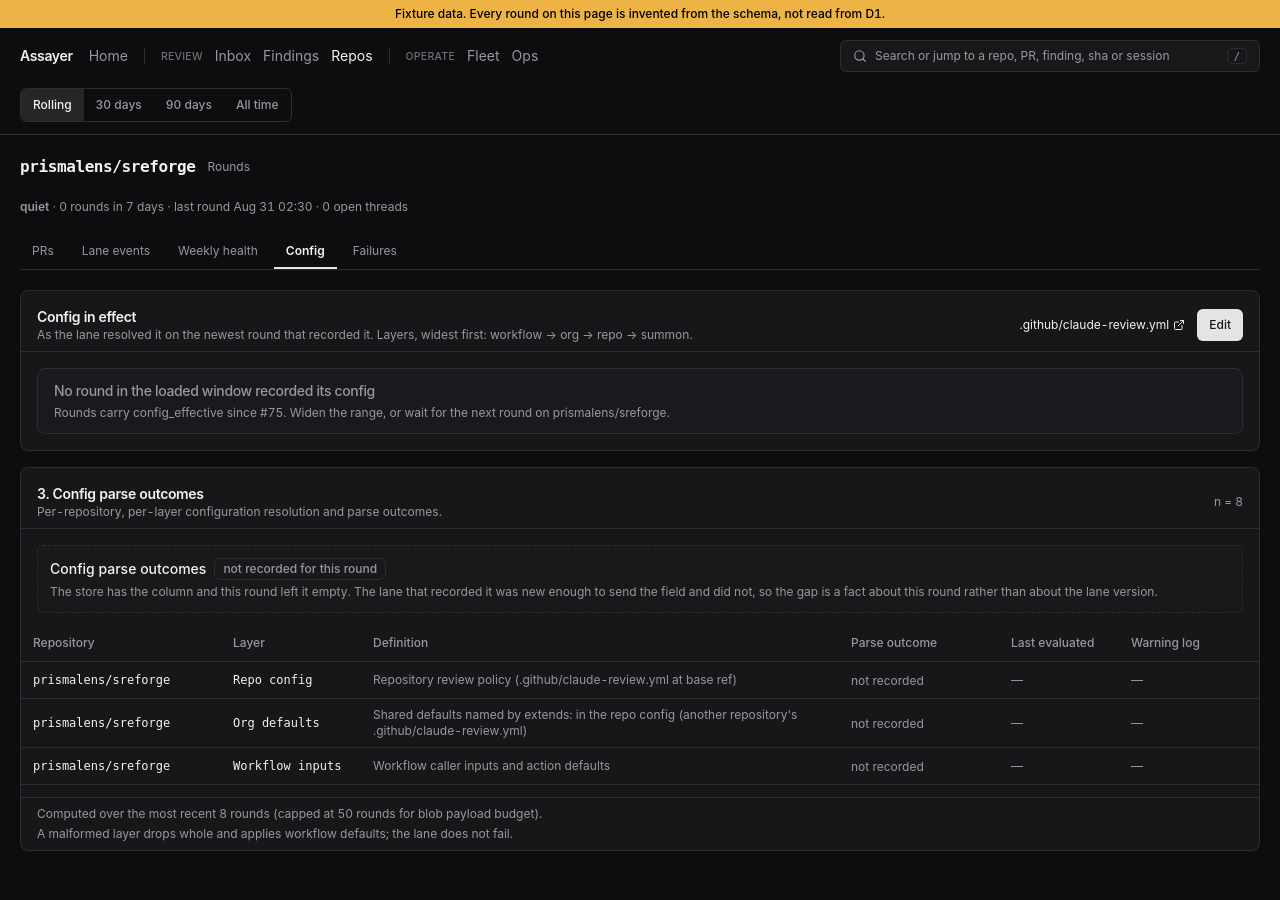
the Config tab edits the file through a pull request (#78) › a repository without the App says so instead of an editor
Click the button with test id "config-edit": (1220, 325) [1197,309,1243,341]
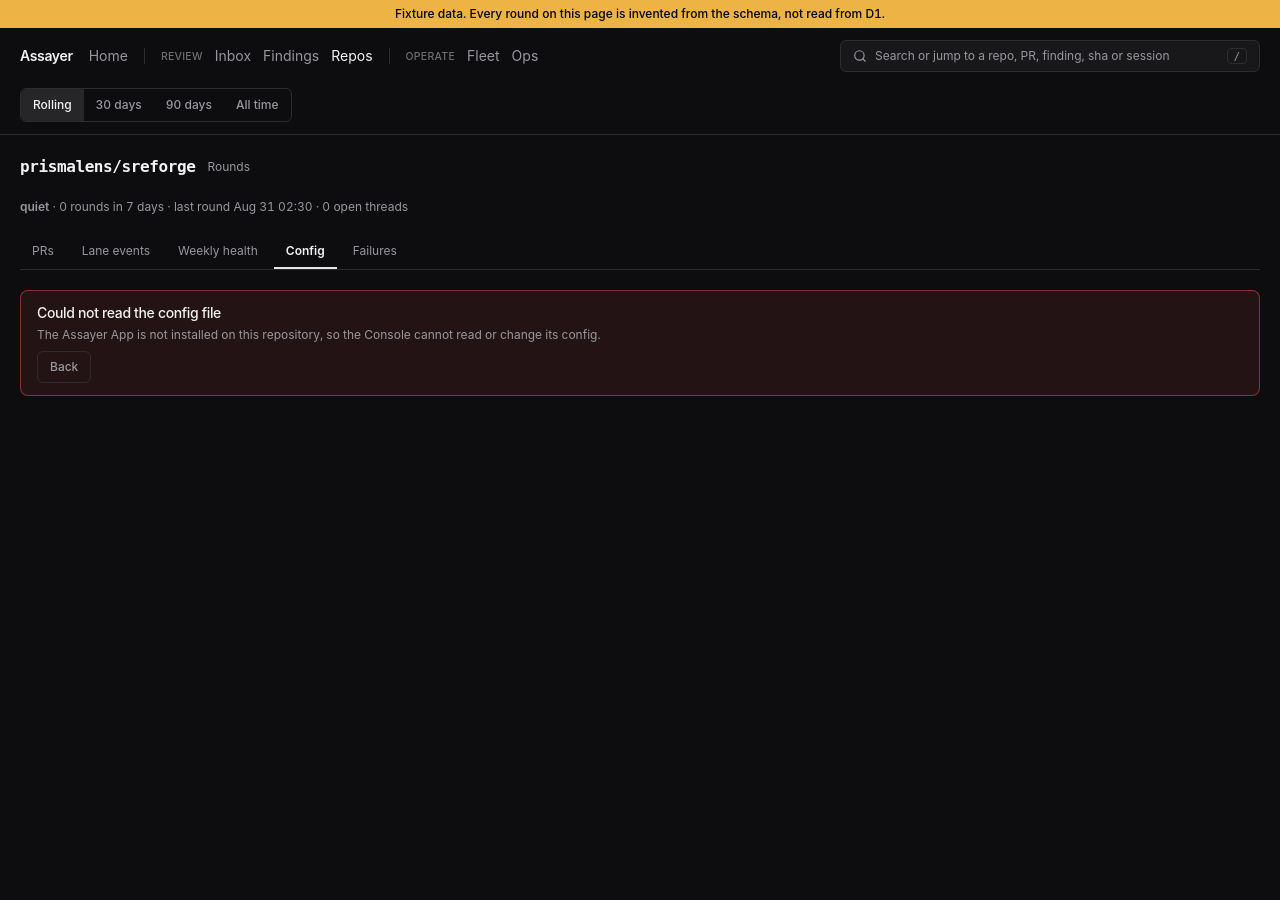
Result: the message with test id "config-file-error" shows "not installed" at [37,327,601,342]
